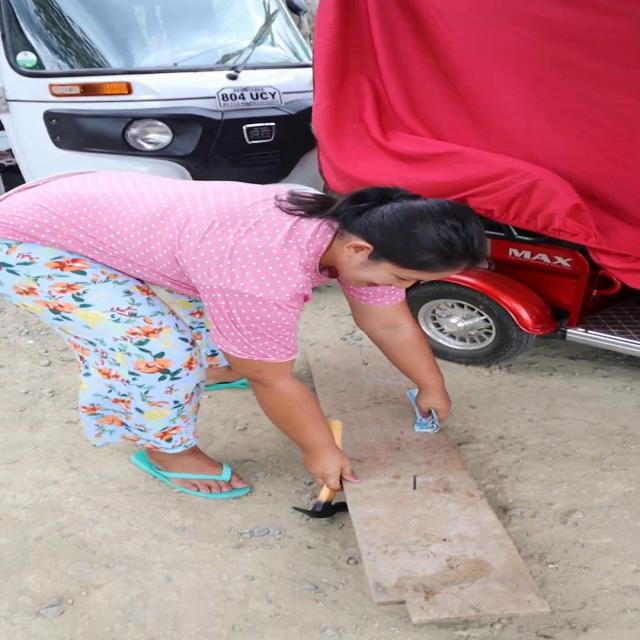hammer: (292, 419, 349, 518)
